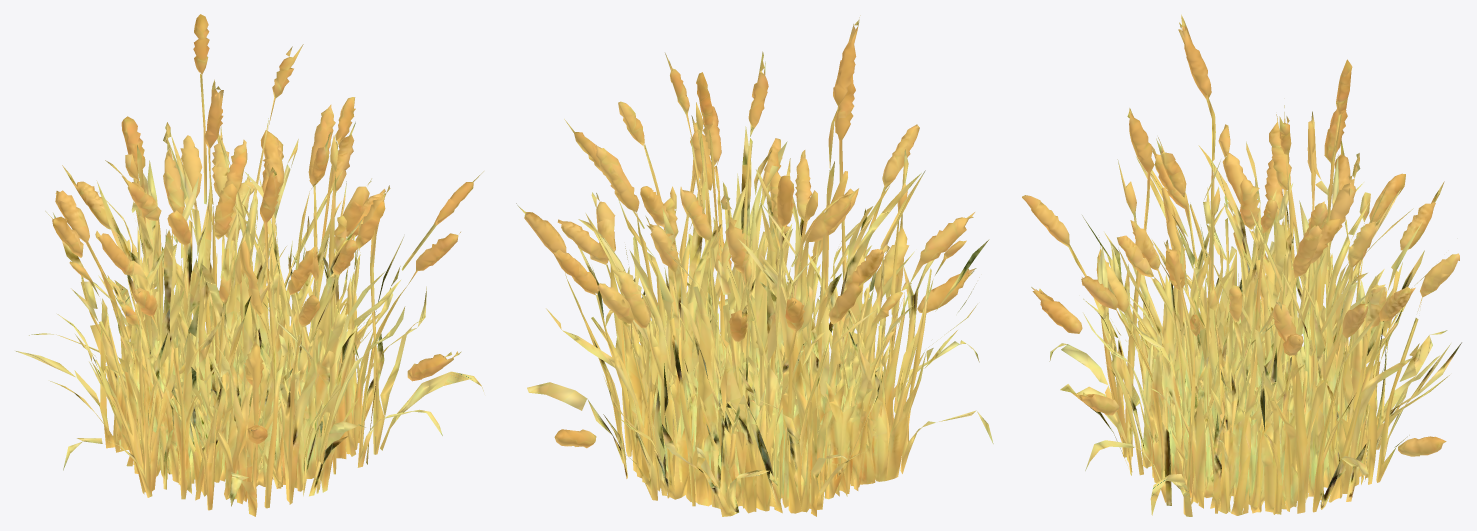
File: wheat-stage-4.glb
The picture shows the model from 3 angles, left to right: view 1: azimuth 30°, elevation 25°; view 2: azimuth 150°, elevation 25°; view 3: azimuth 270°, elevation 25°; orthographic projection. The views are drawn at different scales.
Visible parts, largest first — view 1: Mesh_0; view 2: Mesh_0; view 3: Mesh_0.
Boxes of the visible parts, left/top/right/bottom form: Mesh_0: left=16, top=14, right=483, bottom=516; Mesh_0: left=516, top=15, right=993, bottom=516; Mesh_0: left=1022, top=14, right=1461, bottom=516.
Size of the model in its own units: 0.9365 by 0.9 by 0.85.
1 material, 1 textured.
